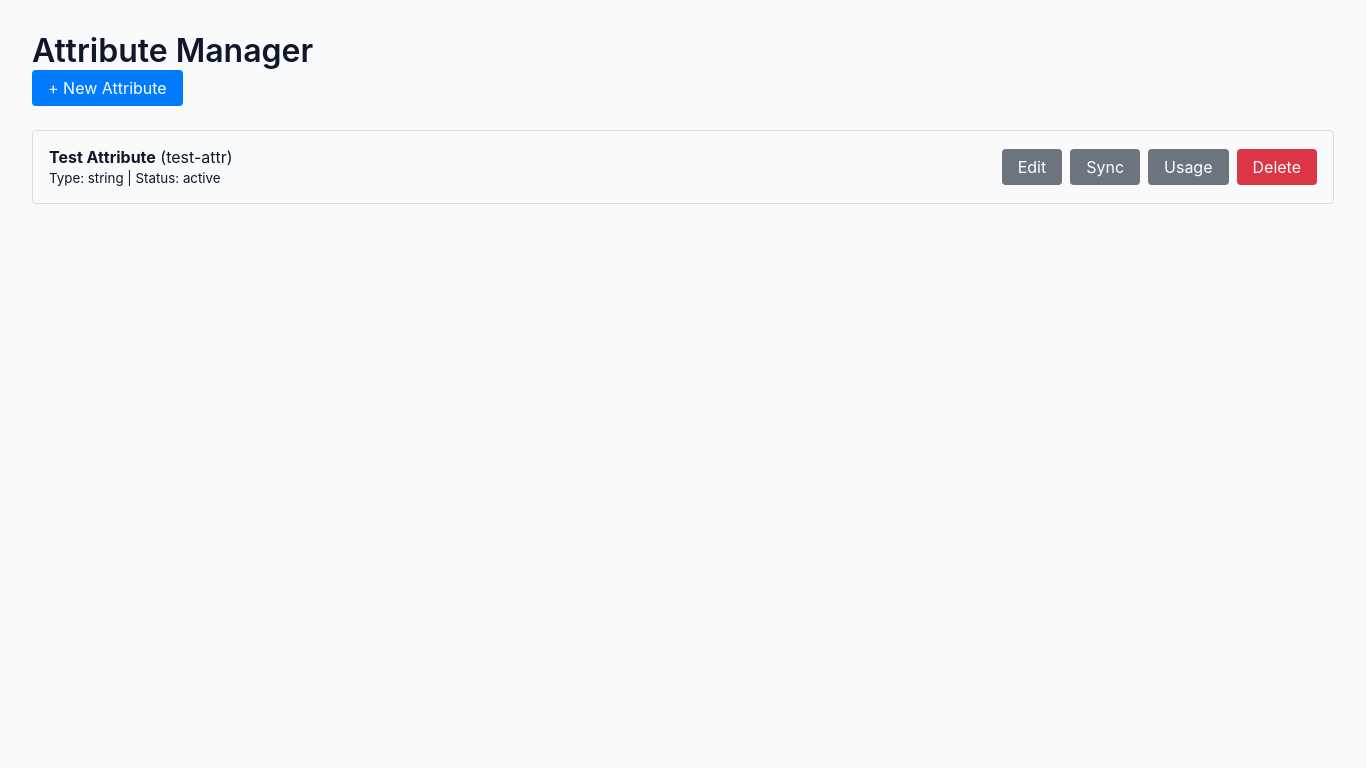
Test case: AttributeManager Save Error Display (LP-3.0.1) › should display saveError when updateAttribute returns ok:false
# Find and click edit button for the test attribute
Step 1. Click the button "Edit" → (1032, 167), box [1002, 149, 1062, 185]
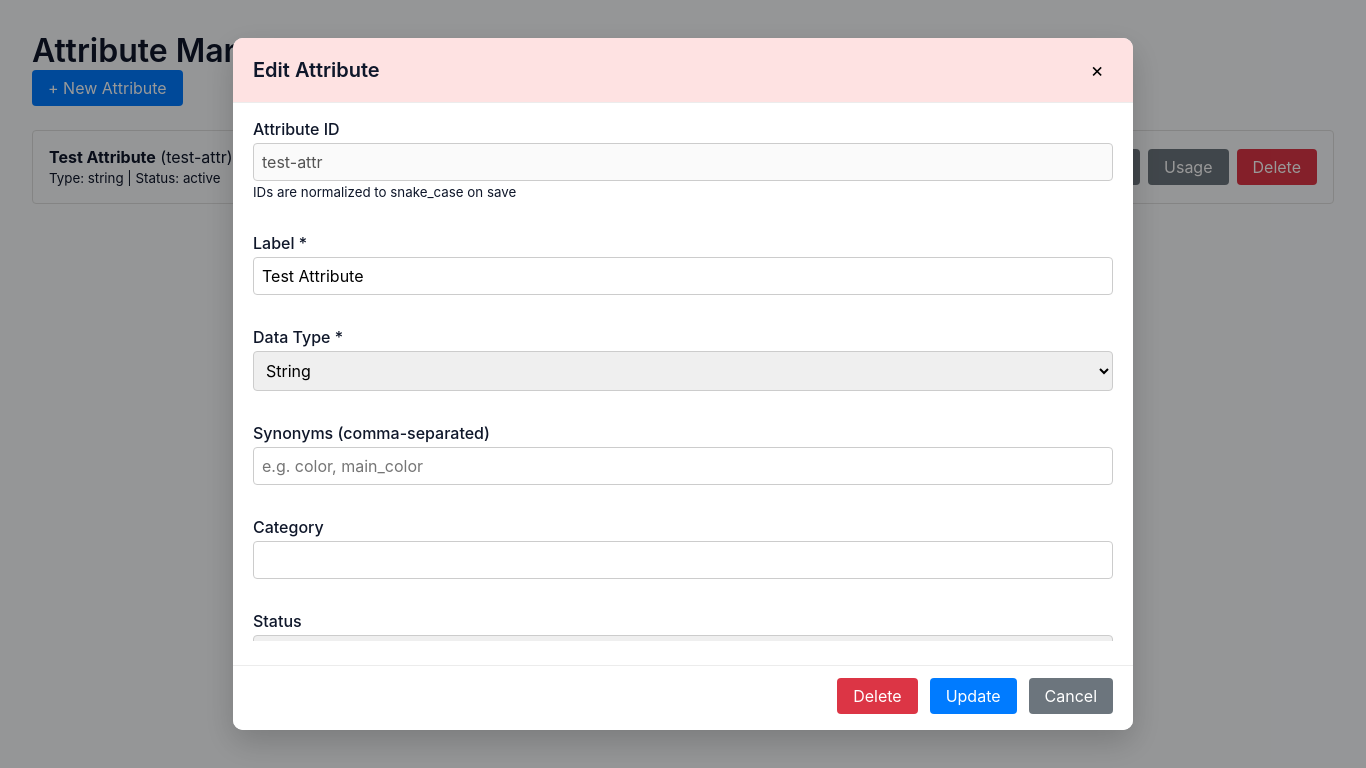
expect the dialog is shown: met
# Click update button (edit mode shows "Update" not "Save")
Step 2. Click the button "Update" → (973, 696), box [930, 678, 1016, 714]
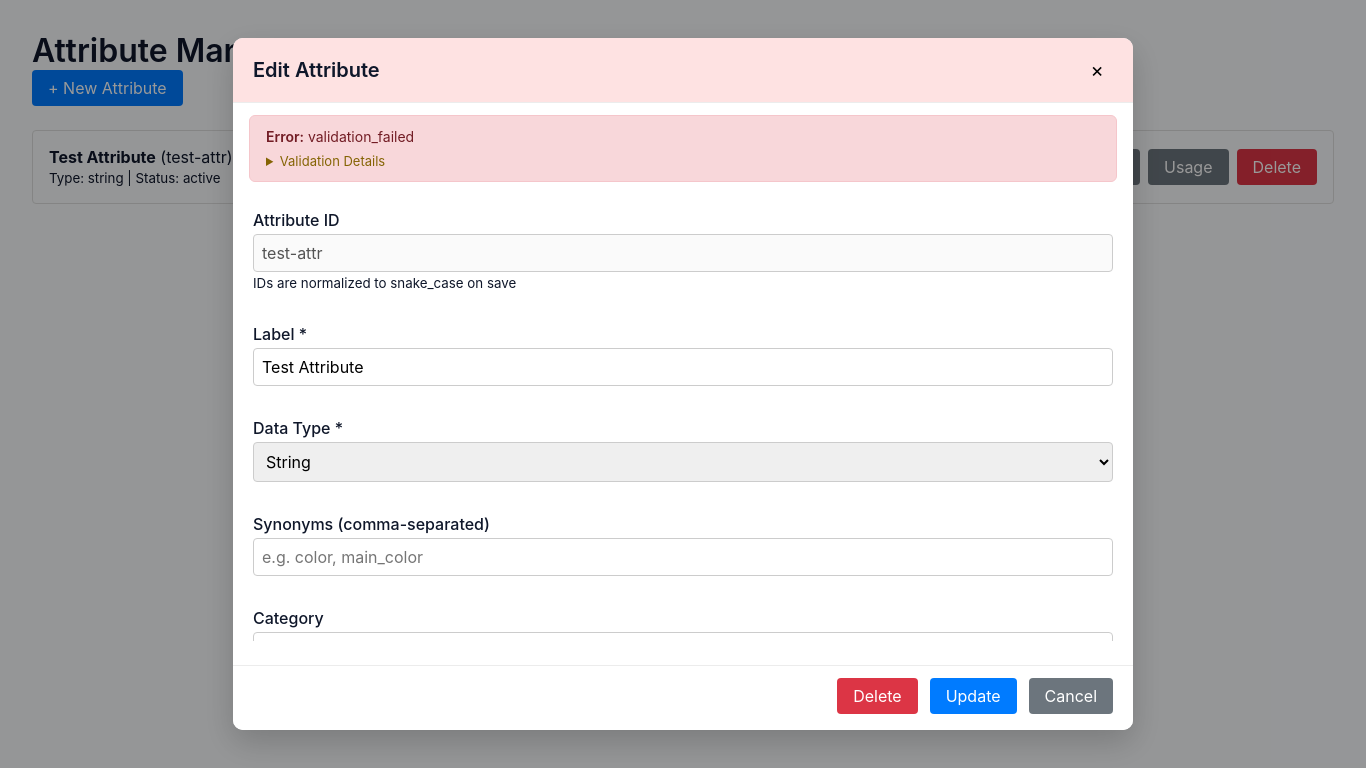
expect the text "Error: validation_failed Validation Details" is shown: met, box [249, 115, 1117, 182]
